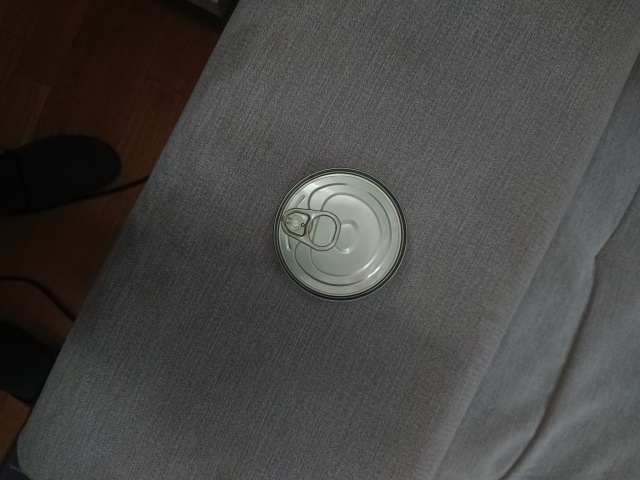Gavrilovic Pork Liver Pate 100g: (269, 164, 410, 305)
